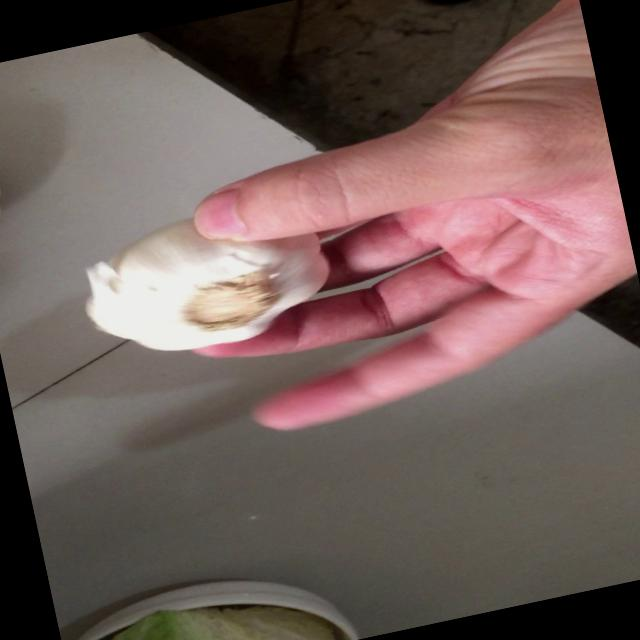garlic: (70, 190, 342, 373)
